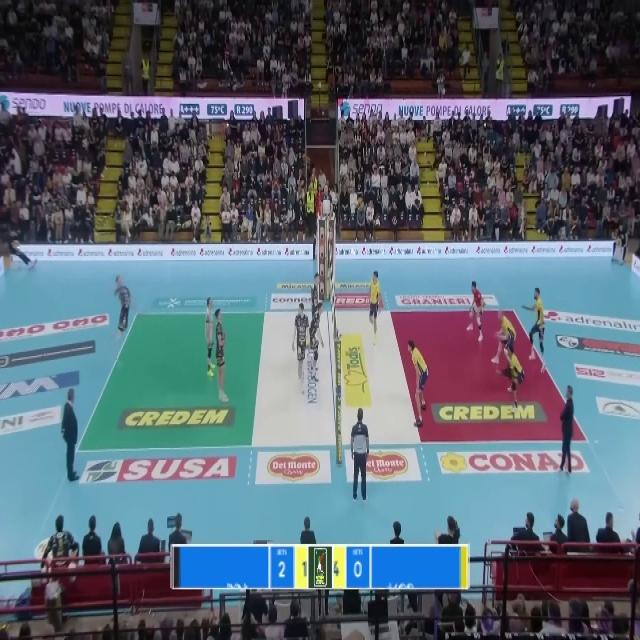volleyball court: (78, 308, 588, 446)
